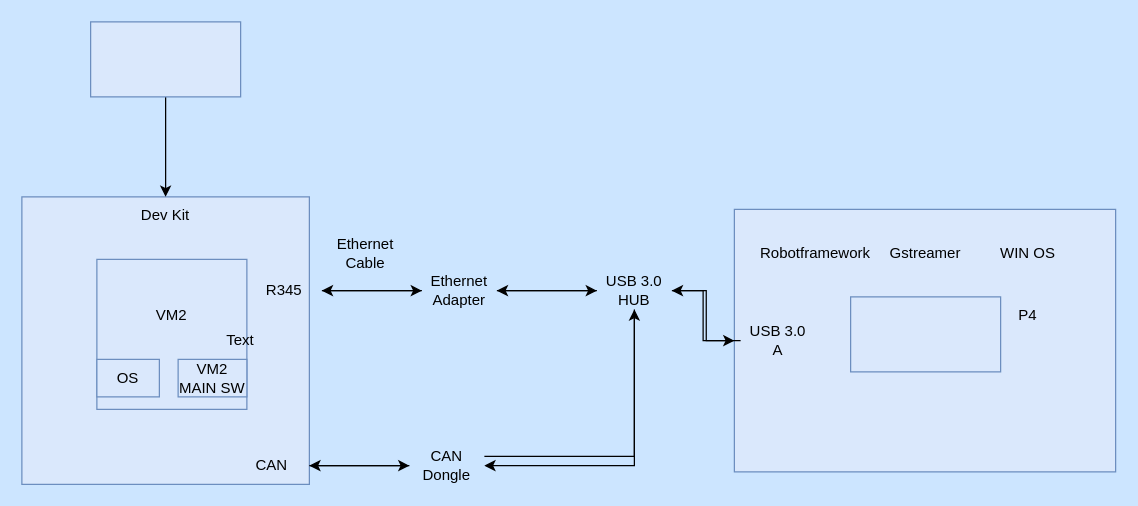
Image size: 1138x506. Some labels were removed from this diagram. The box of each missing label's shape, as (x1, y1, x2, y2) in pixels:
Computer: (849, 296, 1001, 372)
Power Supply 28 Volts: (89, 21, 241, 97)
